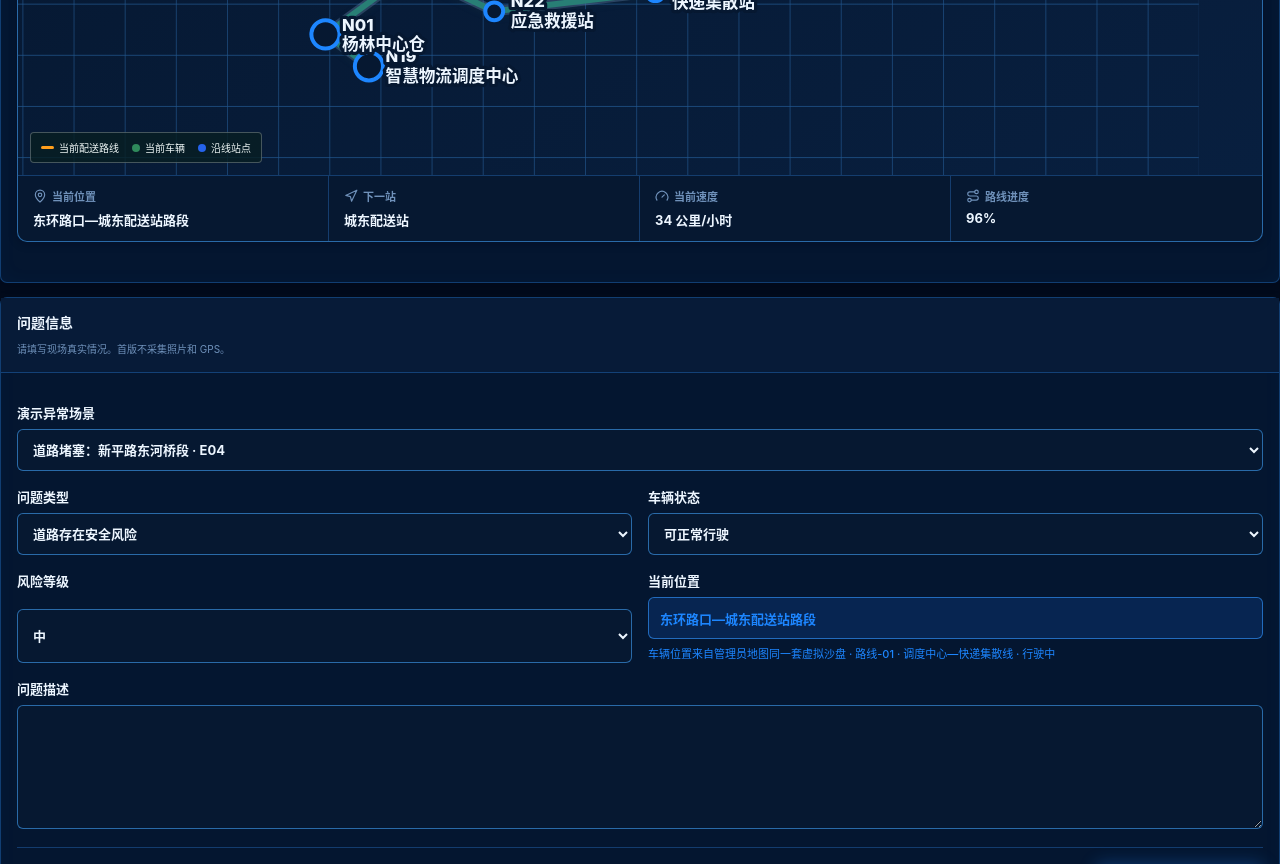
report issue page › applies the fixed road-blocked scenario and submits its edge id
This screenshot has width=1280, height=864.
(page scrolled)
Select "道路堵塞：新平路东河桥段 · E04" in the dropdown labelled "演示异常场景" at coordinates (640, 450), box top-left (17, 429), bottom-right (1263, 471)
(page scrolled)
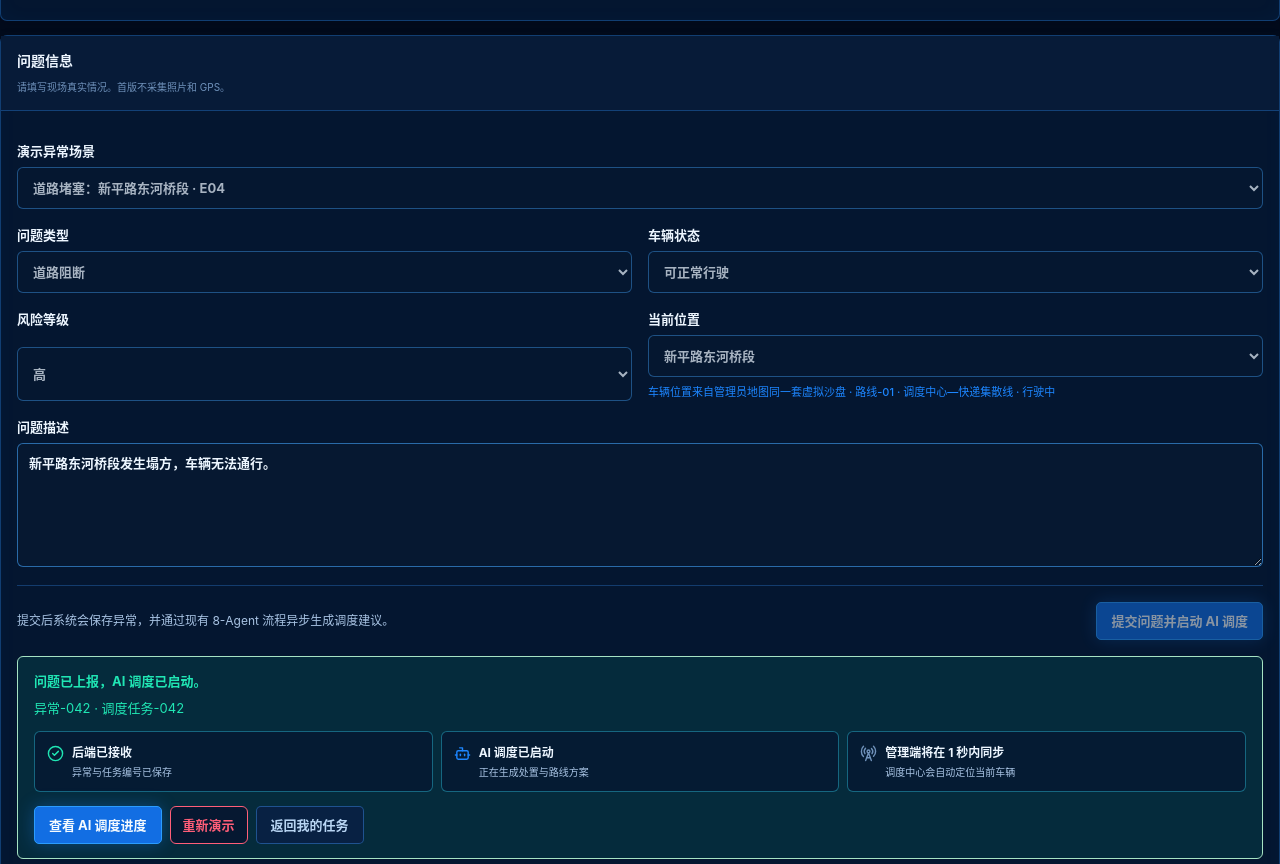
Result: the dropdown with id "report-location" shows "新平路东河桥段" at top-left (648, 335), bottom-right (1263, 377)
Result: the text box labelled "问题描述" holds "新平路东河桥段发生塌方，车辆无法通行。" at top-left (17, 443), bottom-right (1263, 567)
